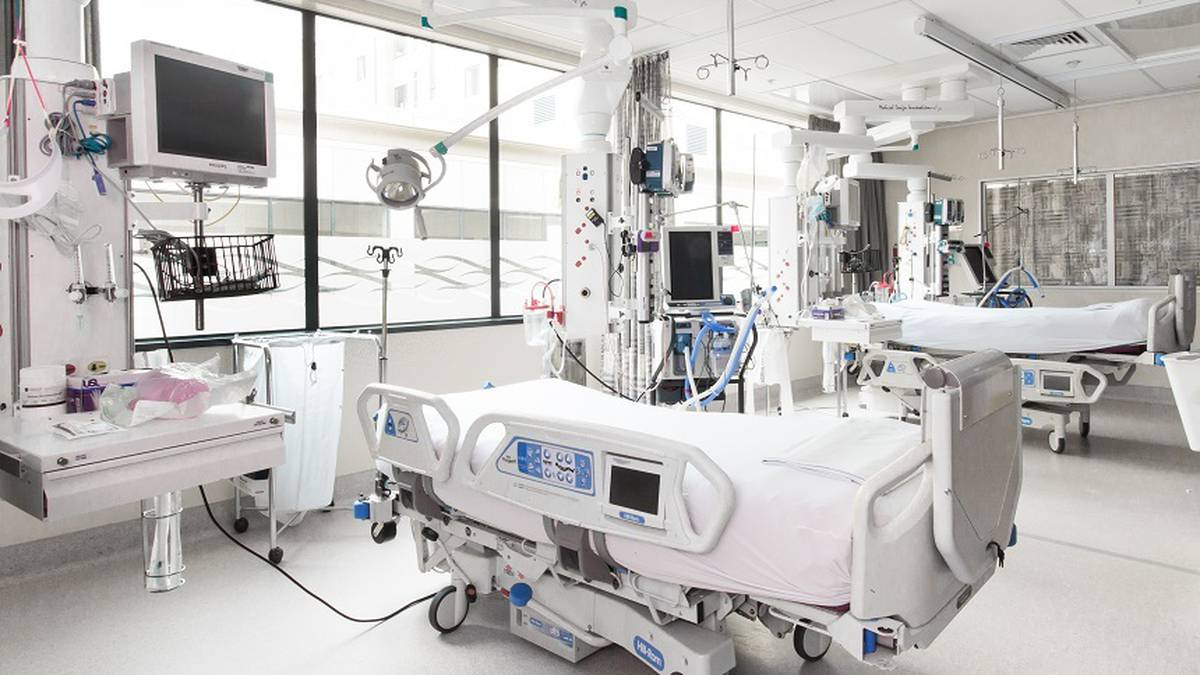bedrail: (454, 411, 734, 556), (355, 383, 458, 482), (1013, 359, 1106, 408), (856, 351, 936, 388)
bedside_monitor: (97, 41, 276, 182), (841, 178, 861, 230)
breathing_tube: (680, 308, 757, 413), (981, 267, 1048, 305)
curtain: (620, 58, 690, 401)
foot_board: (823, 350, 1074, 639)
hospital_bed: (371, 344, 1039, 675), (858, 271, 1200, 451)
iv_pole: (692, 1, 771, 102), (366, 243, 404, 381)
surgical_light: (366, 141, 446, 211)
ventilator: (650, 226, 764, 409), (956, 245, 1029, 307)
waste_bin: (242, 337, 337, 523)
